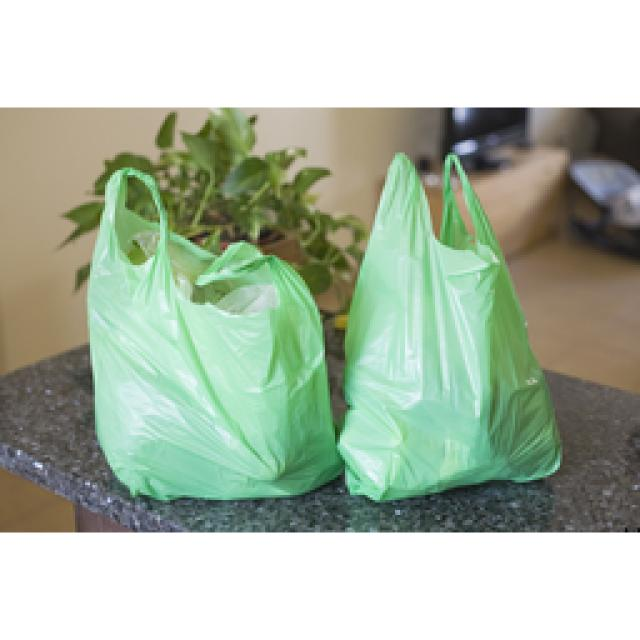plastic: (88, 170, 338, 498), (338, 155, 560, 500)
